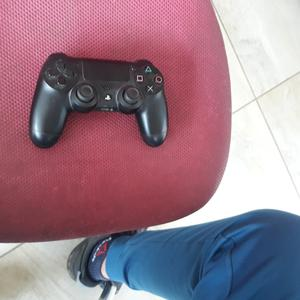controller: (29, 53, 168, 148)
